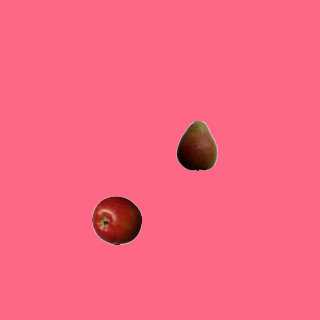Apple Braeburn: (91, 195, 141, 245)
Pear Forelle: (171, 120, 221, 170)
